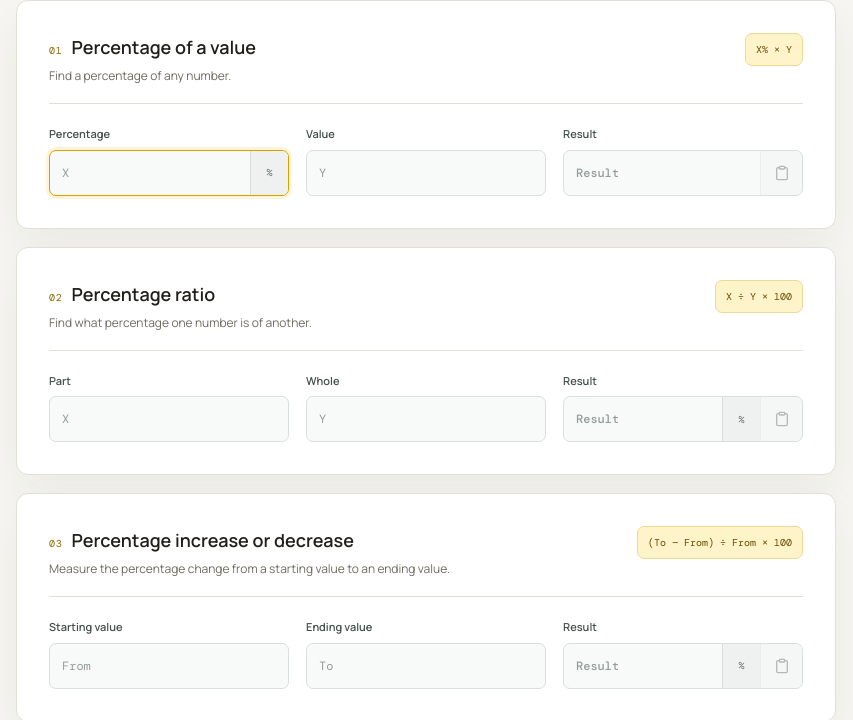
PercentageCalculatorTool › calculates and formats all three percentage operations live
The width and height of the screenshot is (853, 720).
Type "123" into the field labelled "Percentage". click: (150, 172)
box: [50,150,250,194]
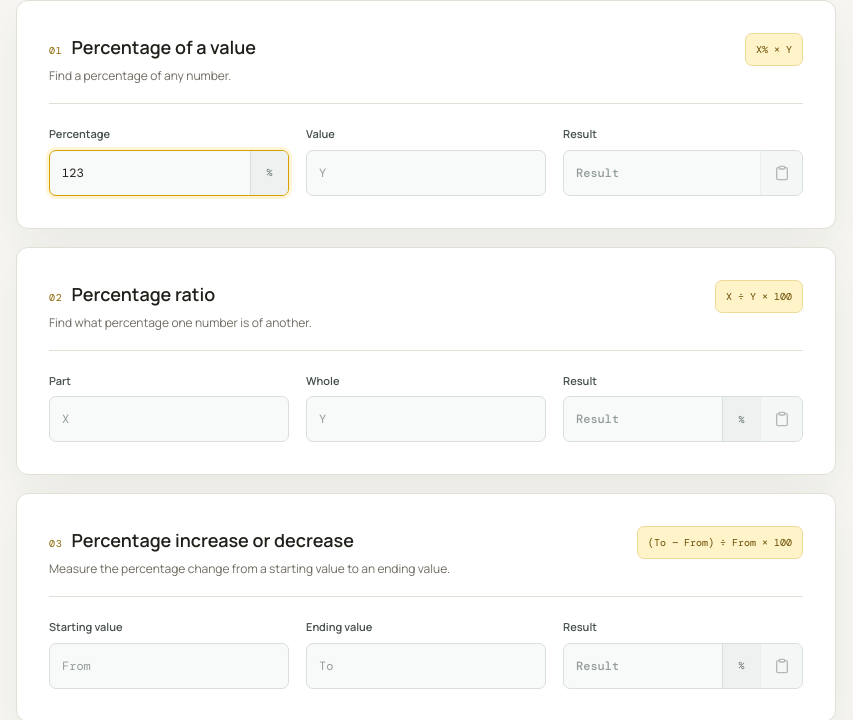
Type "456" into the field labelled "Value". click: (426, 172)
box: [307,150,545,194]
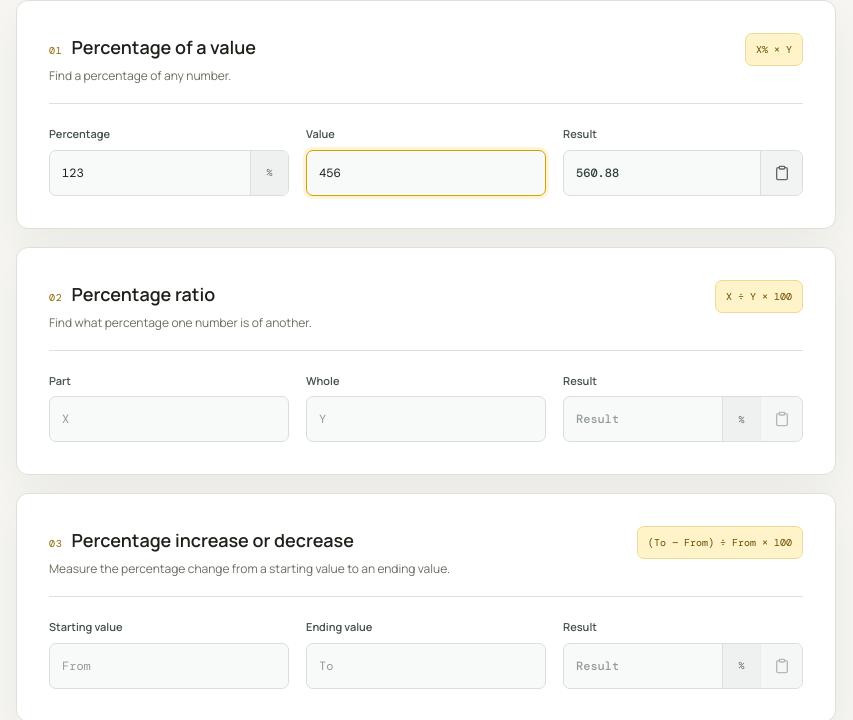
Now the field named "Percentage of a value result" holds "560.88", box [564,150,760,194]
Type "123" into the field labelled "Part". click: (169, 419)
box: [50,397,288,441]
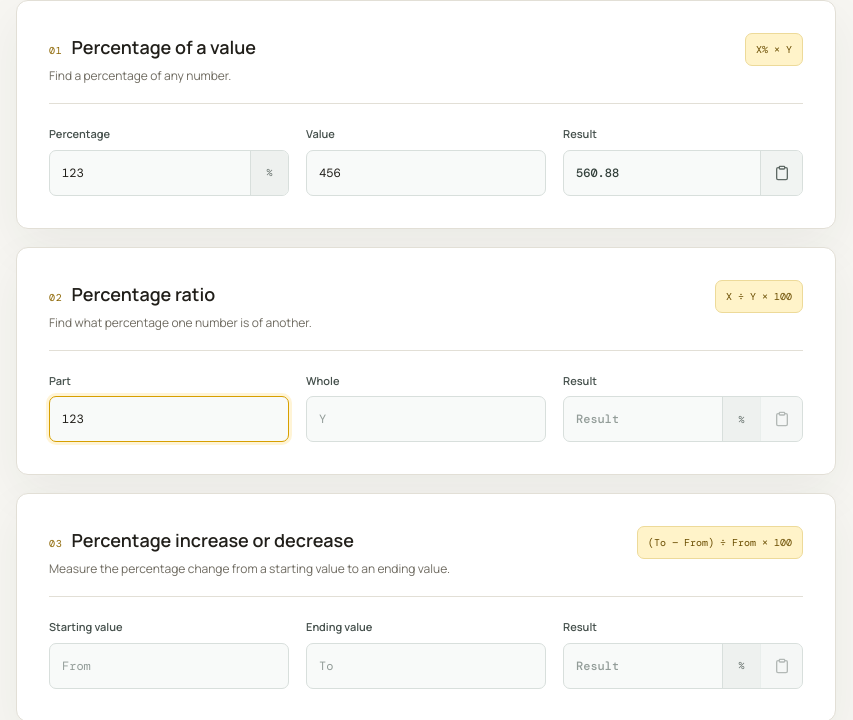
Type "456" into the field labelled "Whole". click: (426, 419)
box: [307,397,545,441]
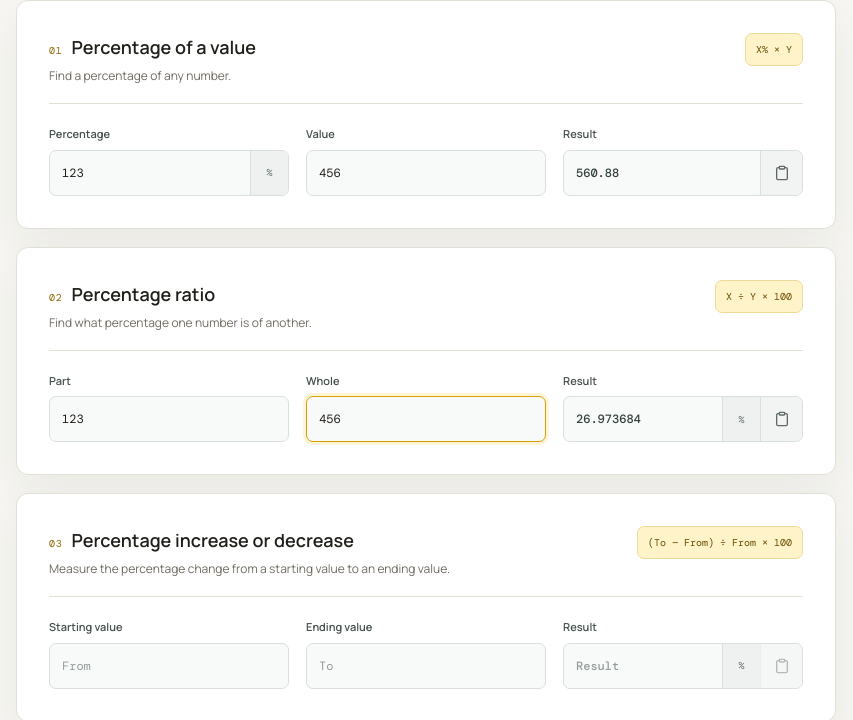
Now the field named "Percentage ratio result" holds "26.973684", box [564,397,722,441]
Type "123" into the field labelled "Starting value". click: (169, 666)
box: [50,644,288,688]
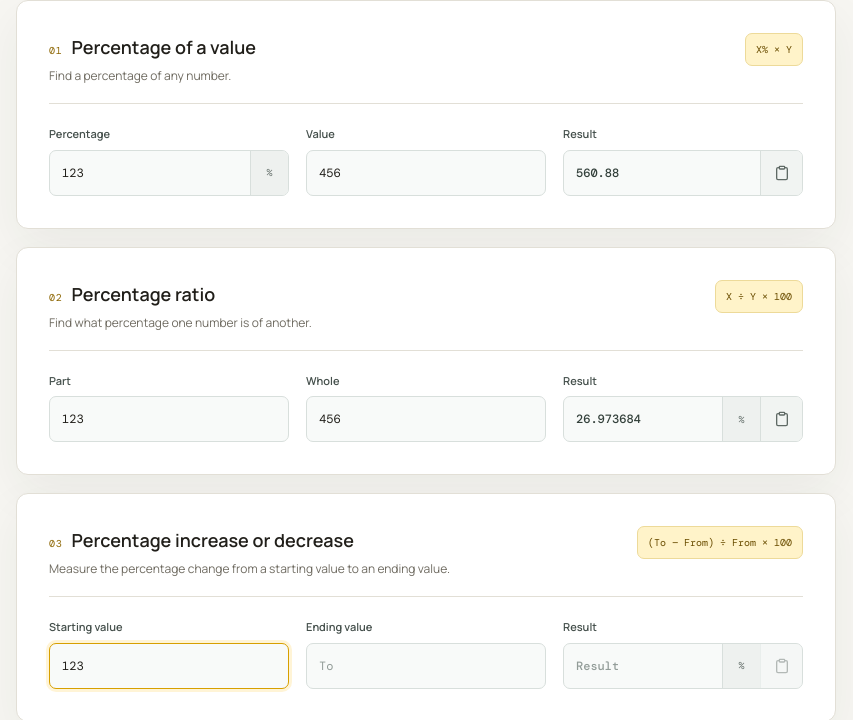
Type "456" into the field labelled "Ending value". click: (426, 666)
box: [307,644,545,688]
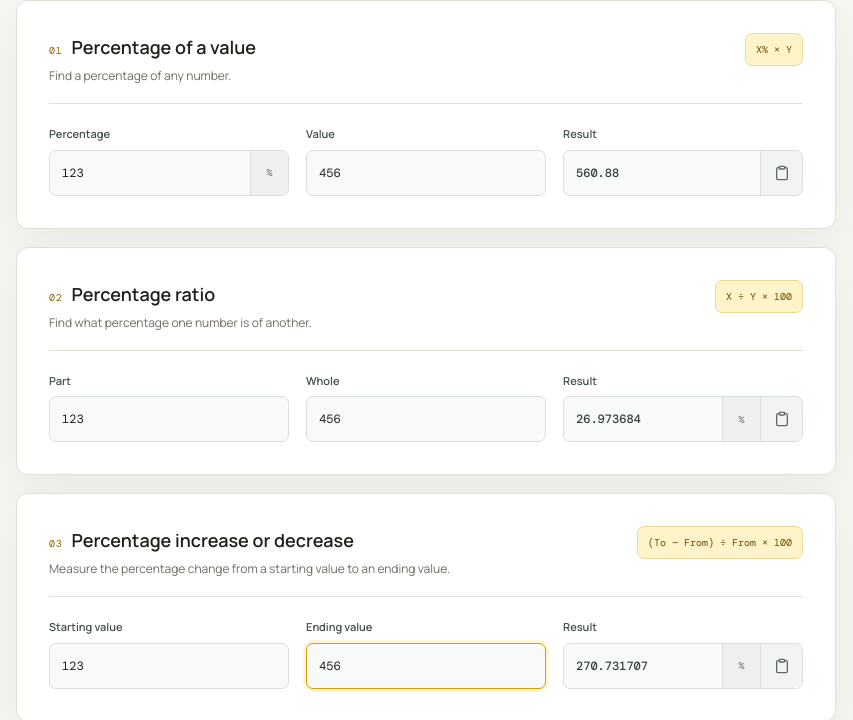
Now the field named "Percentage increase or decrease result" holds "270.731707", box [564,644,722,688]
